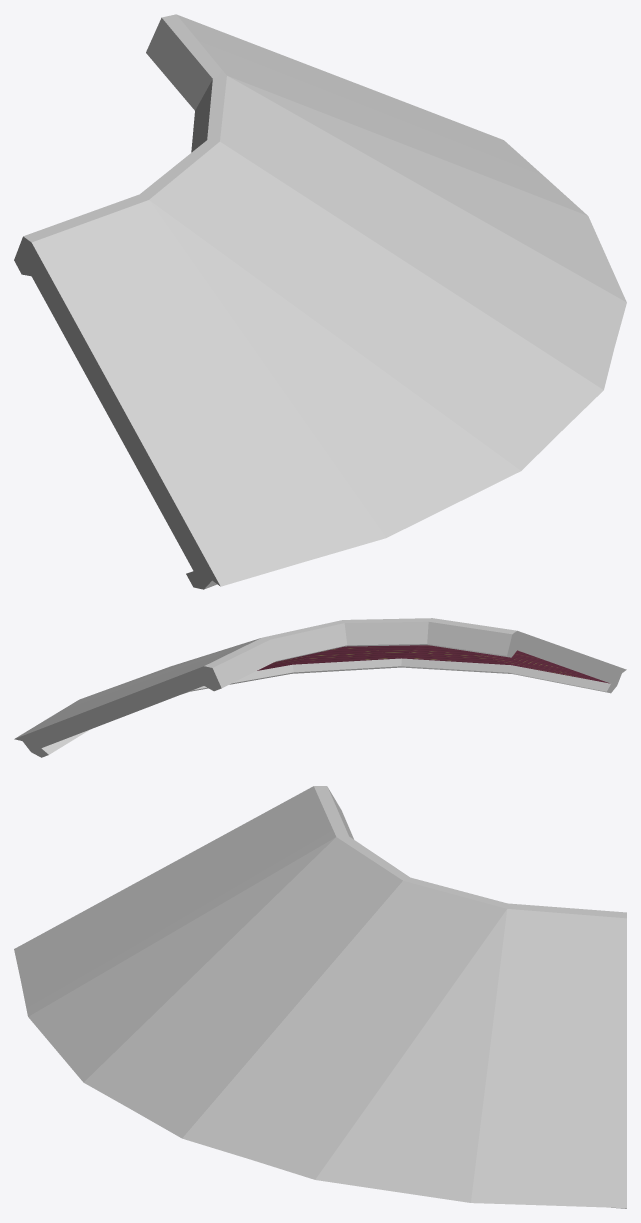
Rendered from SM_Bld_Roof_M_Straight_Corner_Out_03.fbx.
3 views of the same model, one above another, from view 1: azimuth 30°, elevation 25°; view 2: azimuth 150°, elevation 25°; view 3: azimuth 270°, elevation 25° (orthographic). The views are drawn at different scales.
Parts seen in each view (by area): view 1: SM_Bld_Roof_M_Straight_Corner_Out_03; view 2: SM_Bld_Roof_M_Straight_Corner_Out_03; view 3: SM_Bld_Roof_M_Straight_Corner_Out_03.
Boxes of the visible parts, x1,y1,x2,y2 form: SM_Bld_Roof_M_Straight_Corner_Out_03: [14, 14, 626, 589]; SM_Bld_Roof_M_Straight_Corner_Out_03: [14, 618, 626, 757]; SM_Bld_Roof_M_Straight_Corner_Out_03: [14, 786, 626, 1208].
Bounding box in the file's own units: 511 × 166 × 511.
